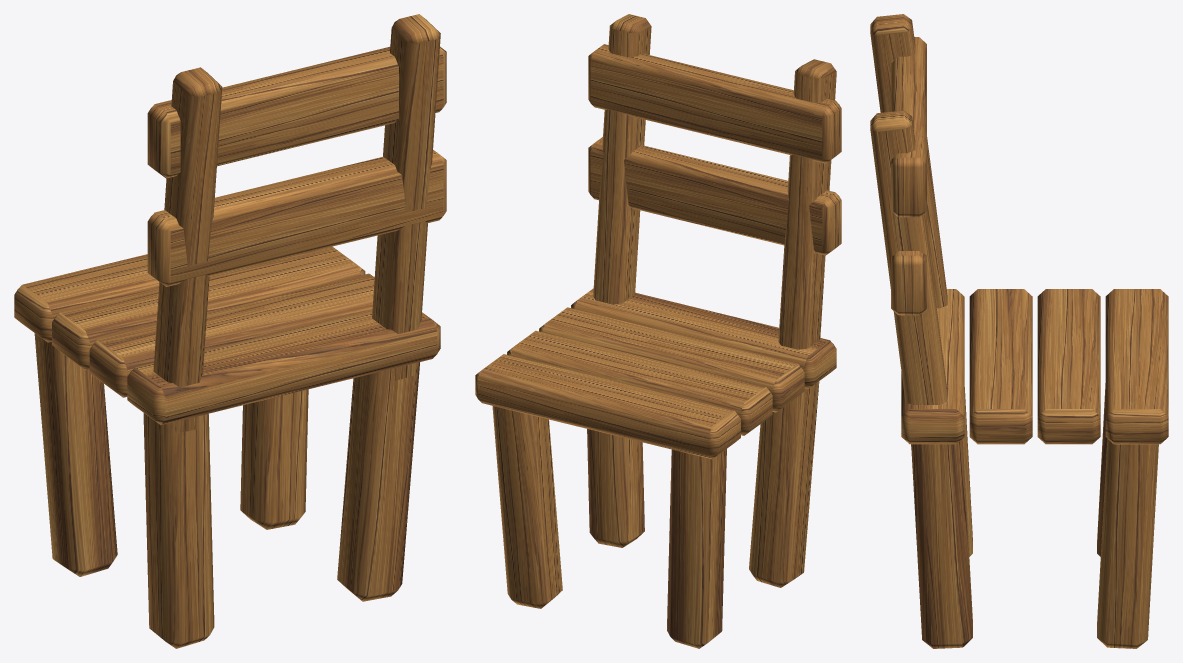
Rendered from 06_Silla.obj.
The picture shows the model from 3 angles, left to right: view 1: azimuth 30°, elevation 25°; view 2: azimuth 150°, elevation 25°; view 3: azimuth 270°, elevation 25°; orthographic projection. The views are drawn at different scales.
Visible parts, largest first — view 1: 06_Silla_Wood; view 2: 06_Silla_Wood; view 3: 06_Silla_Wood.
Part boxes in pixels (x1=…): 06_Silla_Wood: x1=14, y1=14, x2=446, y2=648; 06_Silla_Wood: x1=475, y1=14, x2=841, y2=648; 06_Silla_Wood: x1=870, y1=14, x2=1168, y2=648.
Bounding box in the file's own units: 0.5 × 0.9831 × 0.4968.
1 material, 1 textured.
